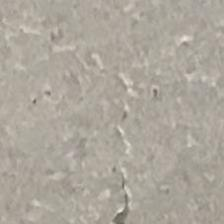Crack: (61, 40, 172, 224)
